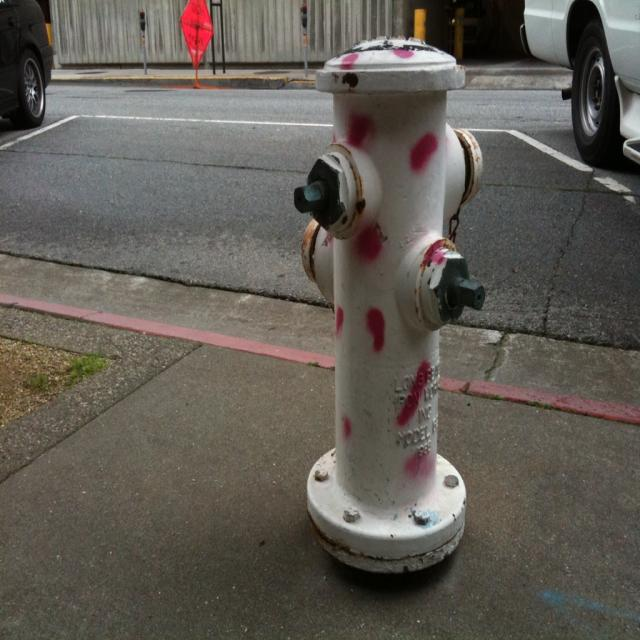fire_hydrant: (292, 38, 489, 572)
